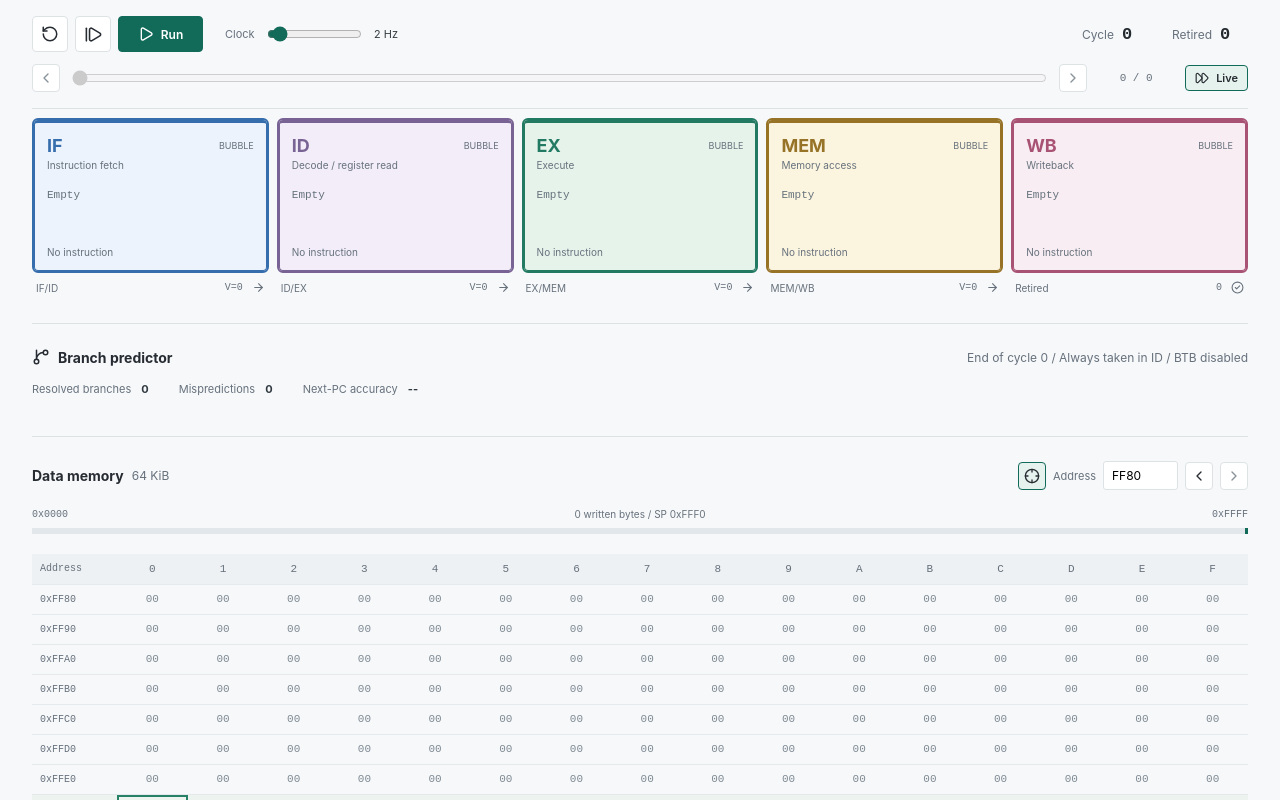
pipeline workspace › navigates RAM pages and follows SP without rendering the whole address space
(page scrolled)
Replace the text in the field named "Memory address" with "0010". click: (1140, 476)
box: [1103,461,1178,490]
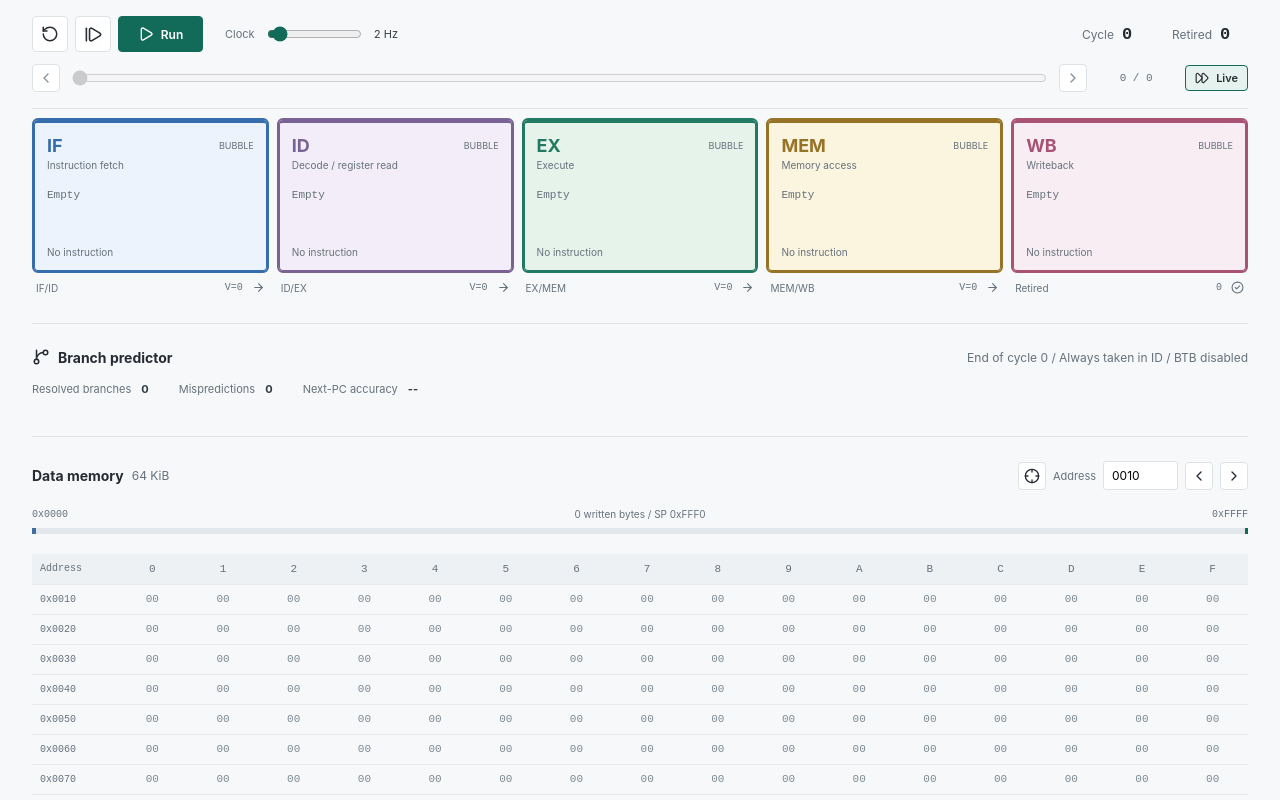
Expected: the column heading "0x0010" is shown, [32,584,117,614]
Click the button named "Follow stack pointer". click: (1032, 476)
box: [1018,462,1046,490]
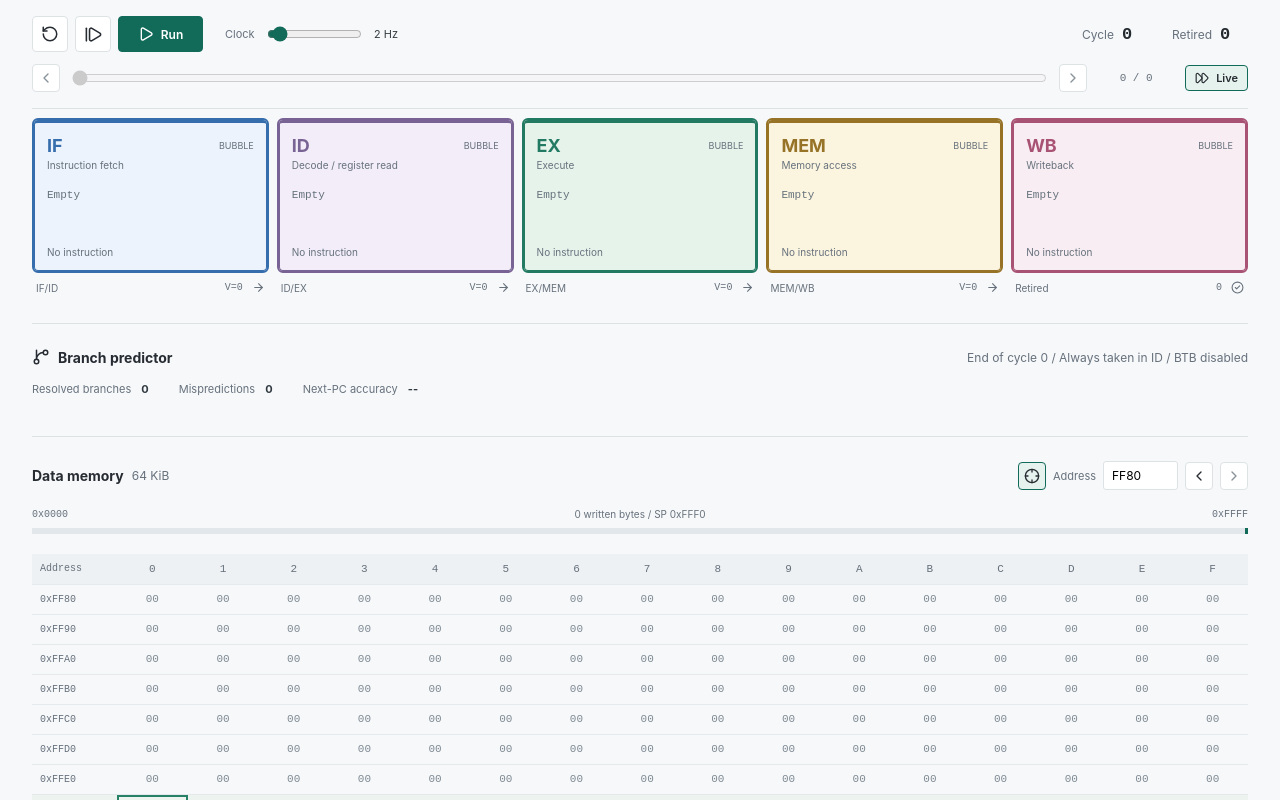
Expected: the column heading "0xFF80" is shown, [32,584,117,614]
